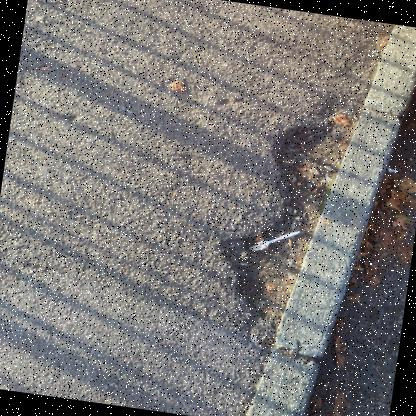Plastic utensils: (248, 231, 300, 250)
Unlabeled litter: (387, 167, 397, 172)
